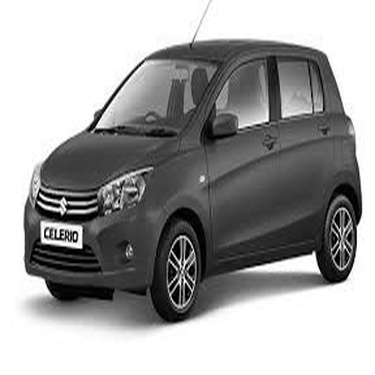car: (12, 29, 366, 323)
